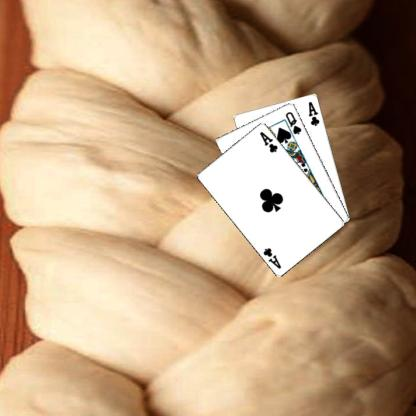AC: (262, 245, 284, 269), (259, 129, 280, 154), (308, 99, 322, 127)
QS: (284, 109, 304, 136)
